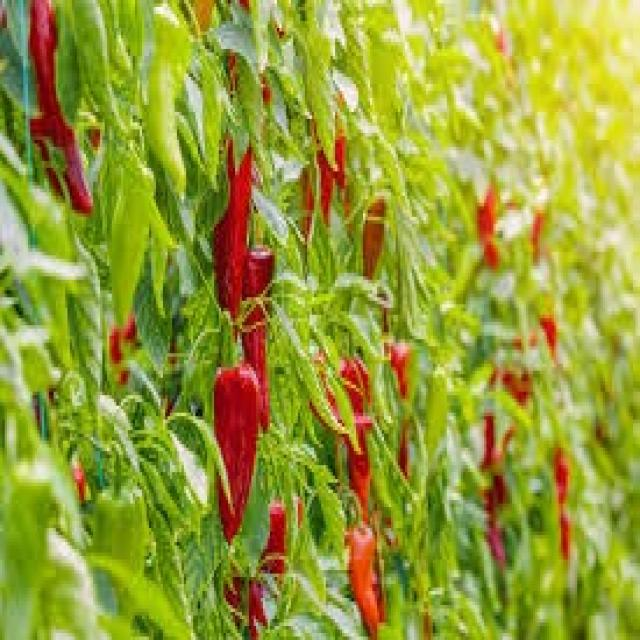Mosaic_virus: (7, 3, 640, 640)
